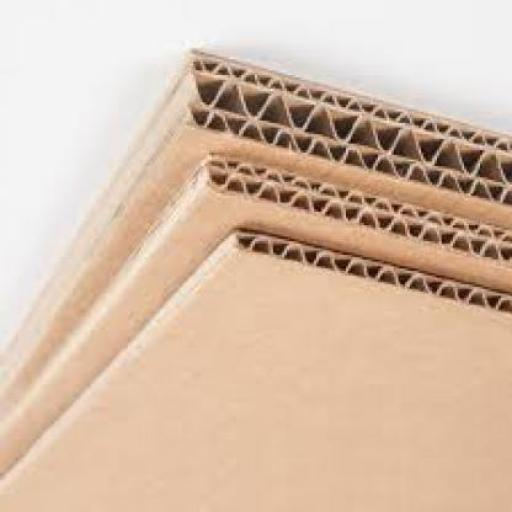cardboard: (0, 52, 510, 426), (0, 155, 510, 480), (0, 229, 511, 512)
